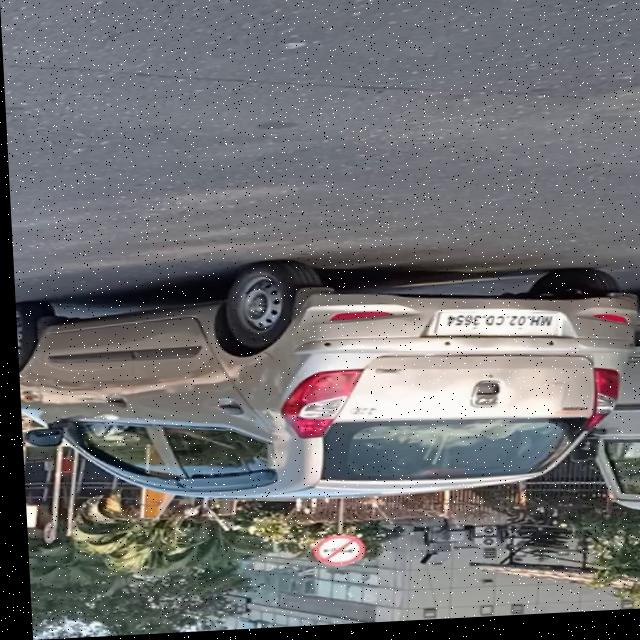plate: (429, 311, 559, 350)
